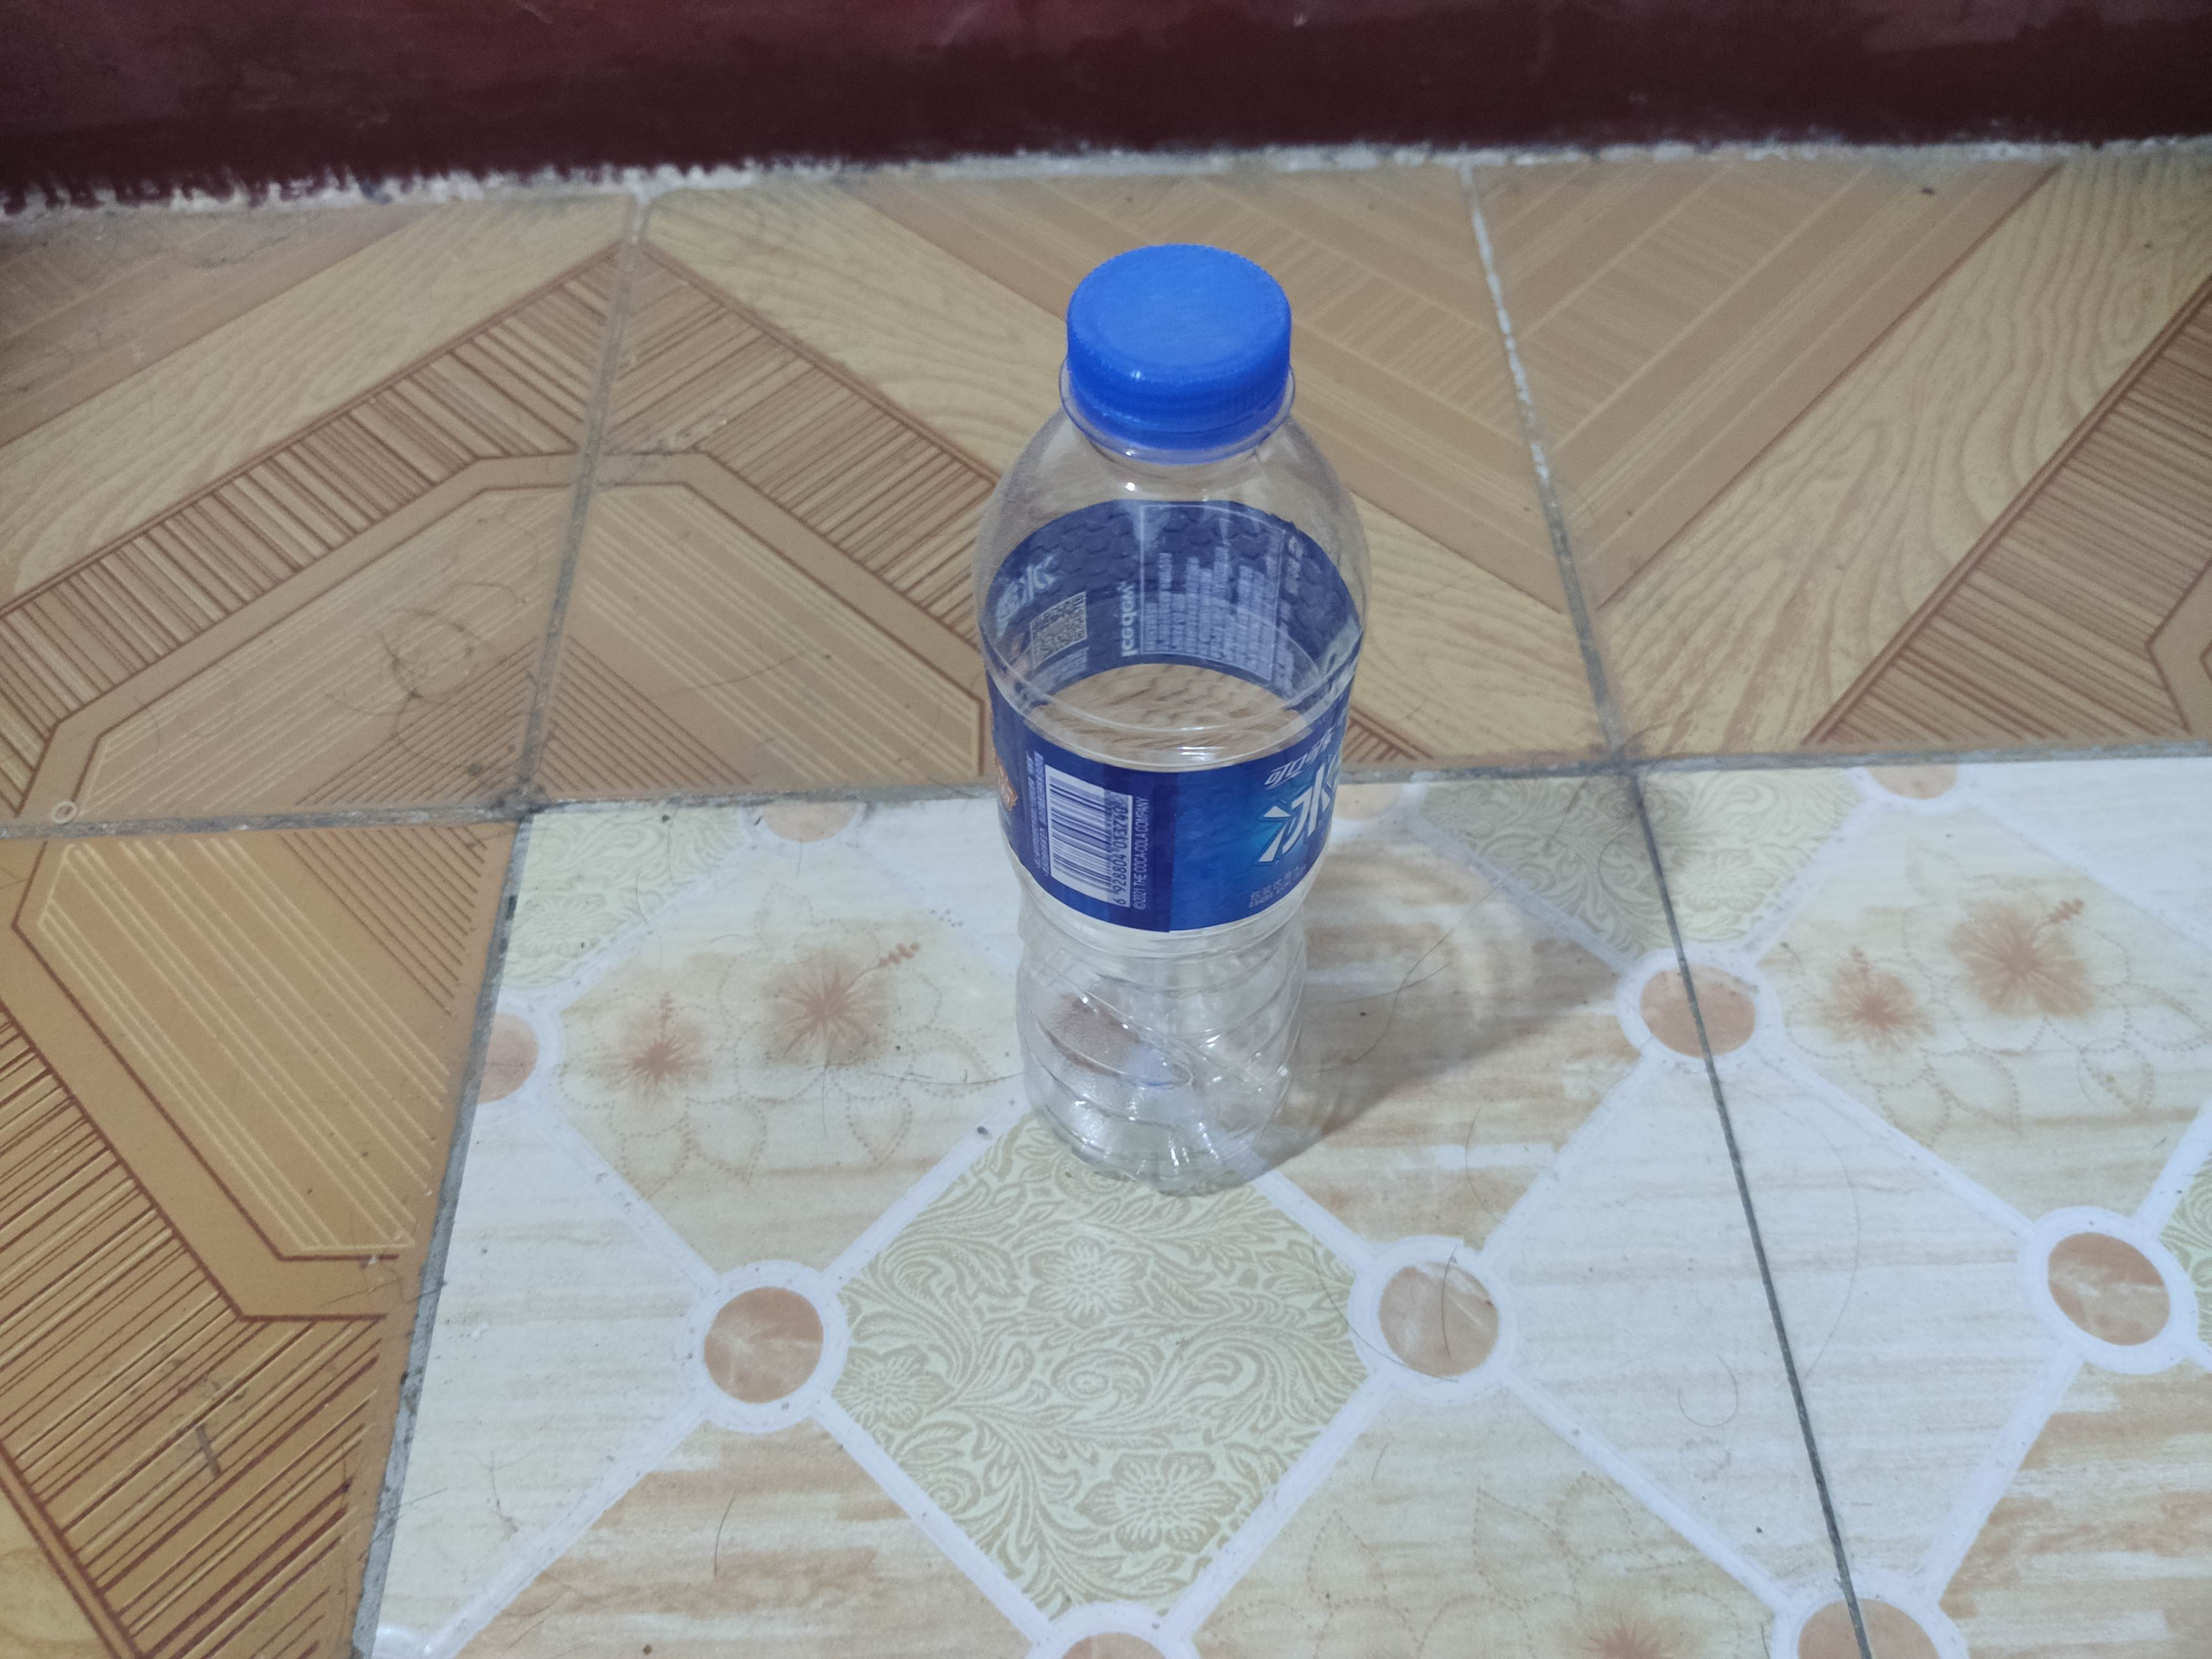Plastic Bottle: (968, 239, 1383, 1204)
